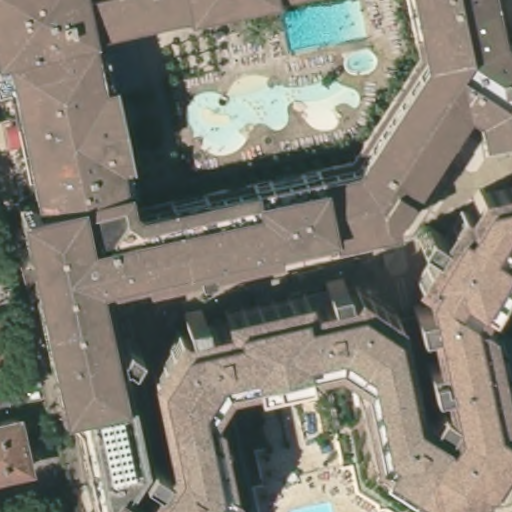pool: (188, 74, 360, 156), (283, 3, 369, 51), (342, 47, 381, 79)
